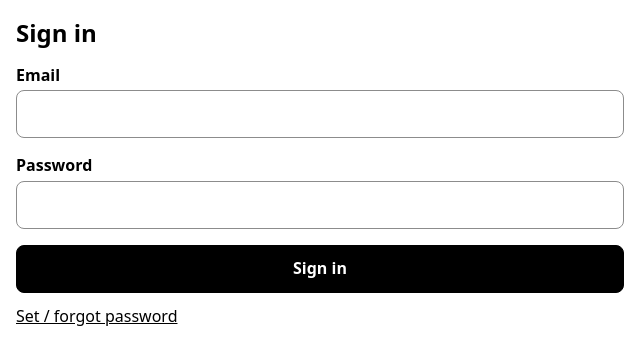
Test: LoginPage › the set / forgot password link goes to /reset
Click the link "Set / forgot password": click(97, 316) [16, 305, 178, 327]
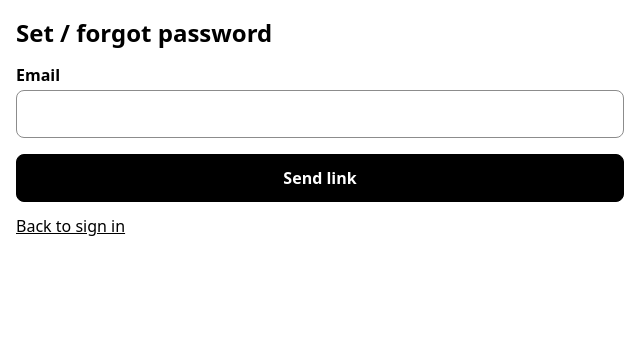
Expected: the heading "Set / forgot password" is shown, [16, 16, 272, 49]
Expected: the button "Send link" is shown, [16, 154, 624, 202]
